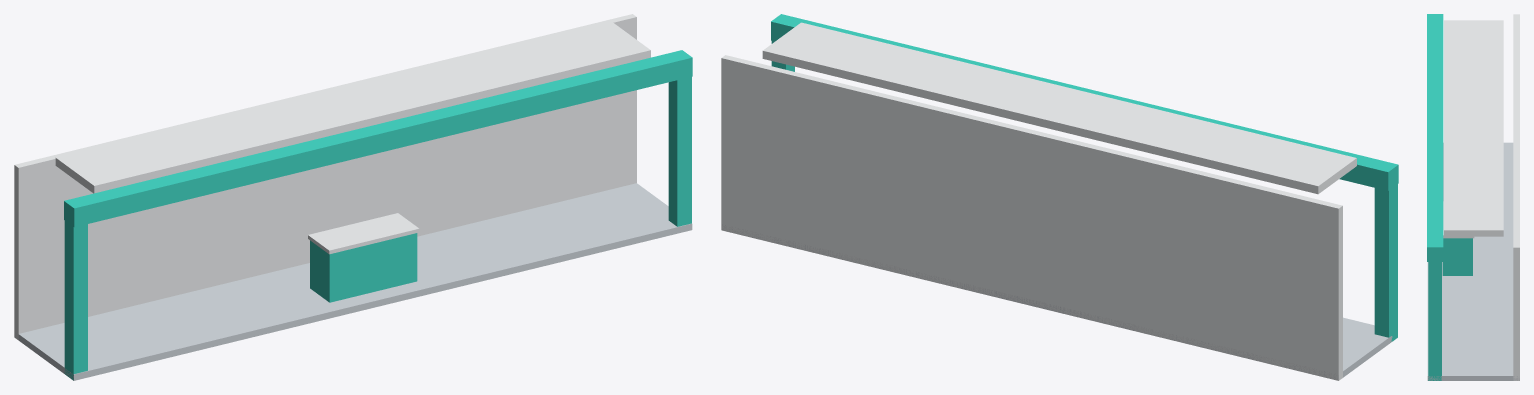
3 views of the same model, side by side, from view 1: azimuth 30°, elevation 25°; view 2: azimuth 150°, elevation 25°; view 3: azimuth 270°, elevation 25° (orthographic). The views are drawn at different scales.
Parts seen in each view (by area): view 1: Exhibition Booth Concept; view 2: Exhibition Booth Concept; view 3: Exhibition Booth Concept.
Boxes of the visible parts, x1,y1,x2,y2 form: Exhibition Booth Concept: (14, 14, 692, 380); Exhibition Booth Concept: (721, 14, 1398, 380); Exhibition Booth Concept: (1427, 14, 1519, 380).
Size of the model in its own units: 12 by 3.34 by 2.01.
